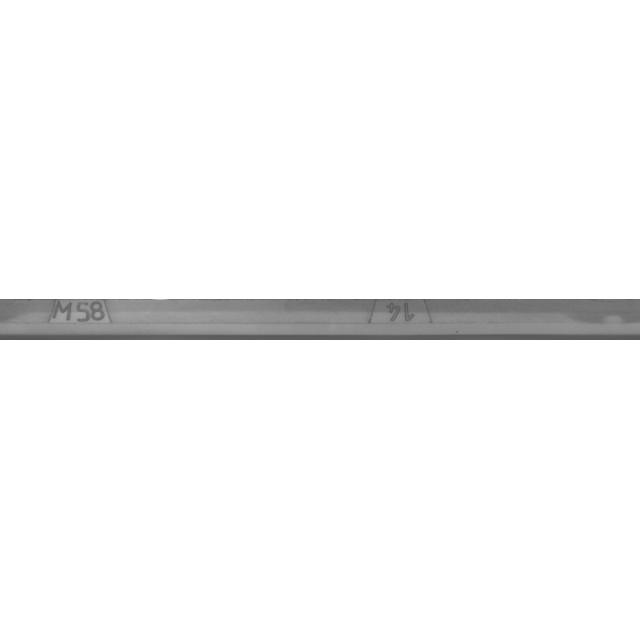mohao: (0, 270, 185, 370)
xuehao: (295, 270, 495, 370)
